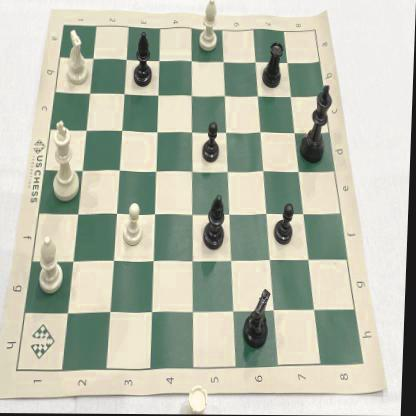black-bishop: (128, 24, 160, 92), (203, 191, 230, 255)
black-king: (297, 80, 337, 166)
black-knight: (242, 286, 280, 354)
black-pawn: (274, 200, 300, 249), (200, 118, 224, 166)
black-rook: (261, 35, 288, 94)
white-bishop: (36, 232, 68, 297), (195, 0, 223, 55)
white-king: (47, 117, 88, 206)
white-knight: (62, 21, 94, 91)
white-pawn: (122, 198, 148, 249)
